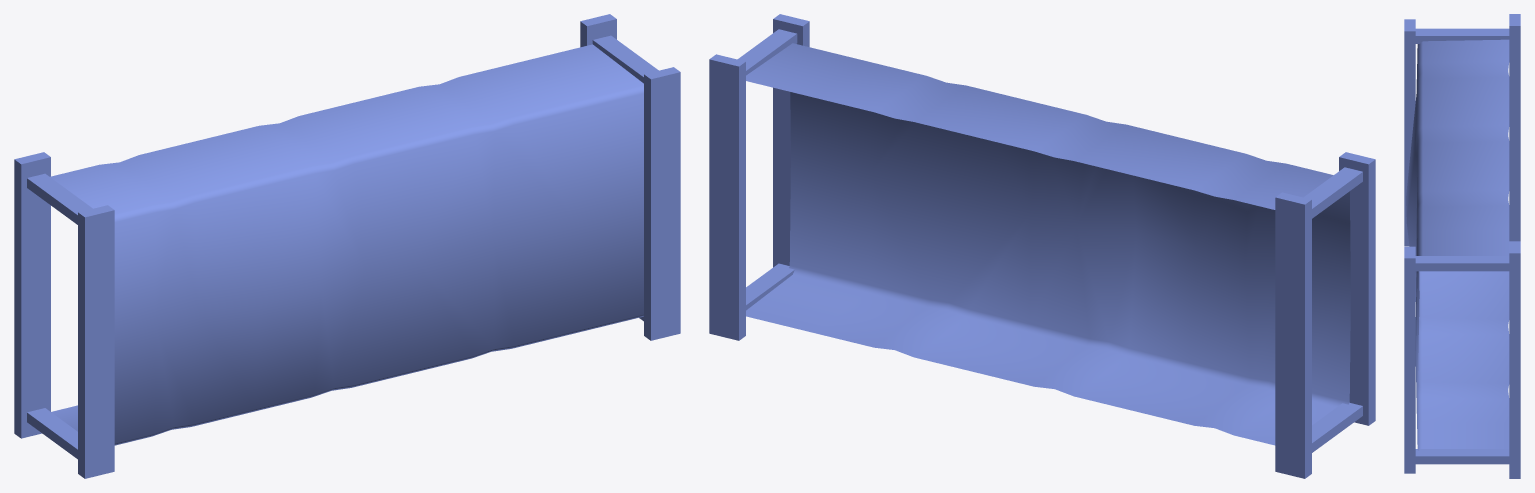
Rendered from SM_PROP_SUPPORT_BASE_02.fbx.
The picture shows the model from 3 angles, left to right: view 1: azimuth 30°, elevation 25°; view 2: azimuth 150°, elevation 25°; view 3: azimuth 270°, elevation 25°; orthographic projection. The views are drawn at different scales.
Visible parts, largest first — view 1: SM_PROP_SUPPORT_BASE_02; view 2: SM_PROP_SUPPORT_BASE_02; view 3: SM_PROP_SUPPORT_BASE_02.
Boxes of the visible parts, left/top/right/bottom form: SM_PROP_SUPPORT_BASE_02: left=14, top=14, right=680, bottom=478; SM_PROP_SUPPORT_BASE_02: left=709, top=14, right=1375, bottom=478; SM_PROP_SUPPORT_BASE_02: left=1404, top=14, right=1520, bottom=478.
Size of the model in its own units: 2 by 0.88 by 0.4109.
